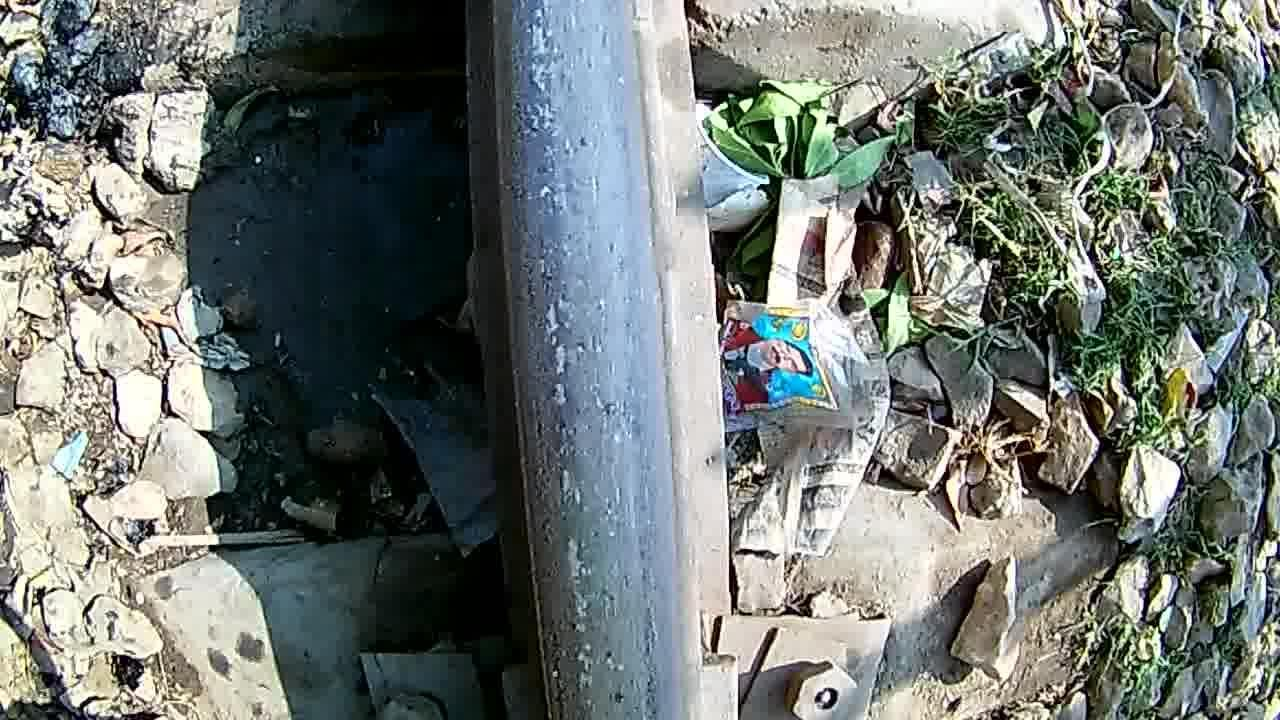crack: (482, 0, 682, 720)
